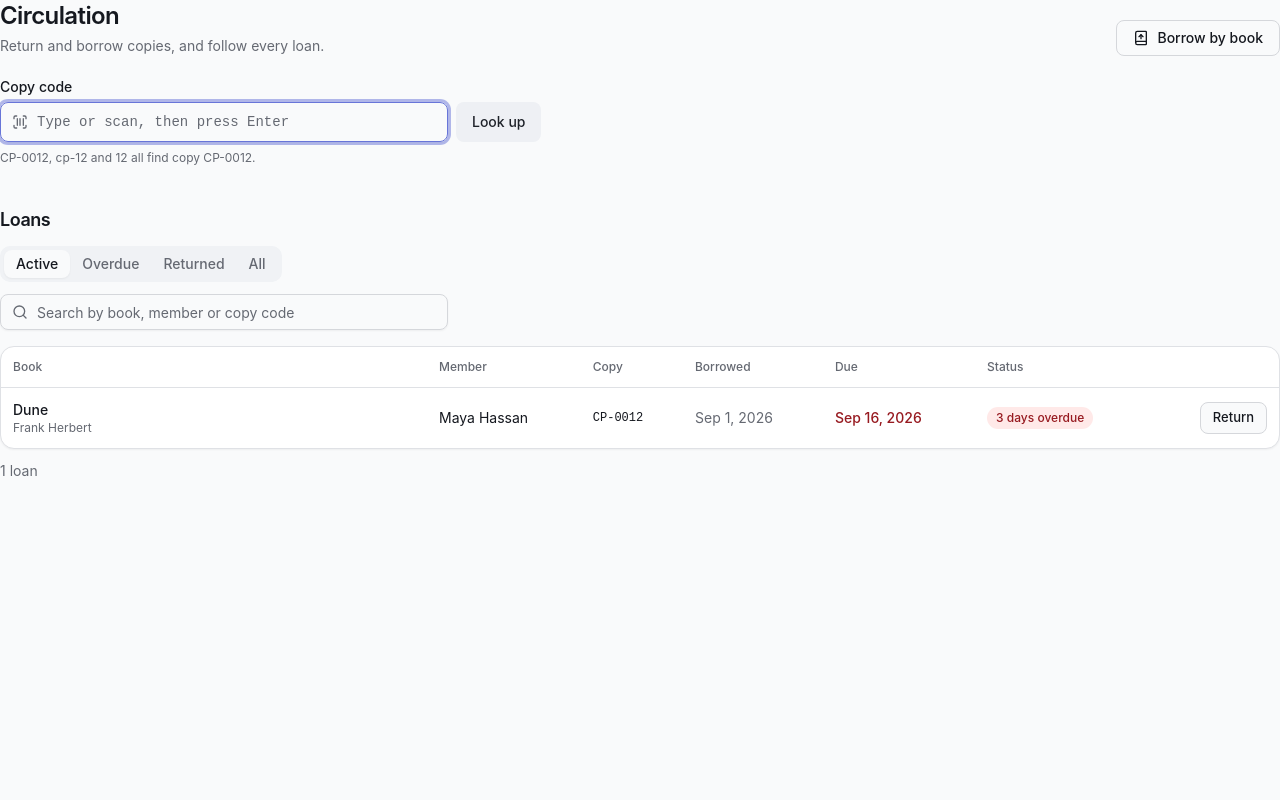
Test: CirculationPage: the loans list › returns a loan from its row and puts focus back in the copy-code box
Click the button with aria-label "Return CP-0012". click: (1233, 418)
box: [1200, 402, 1267, 434]
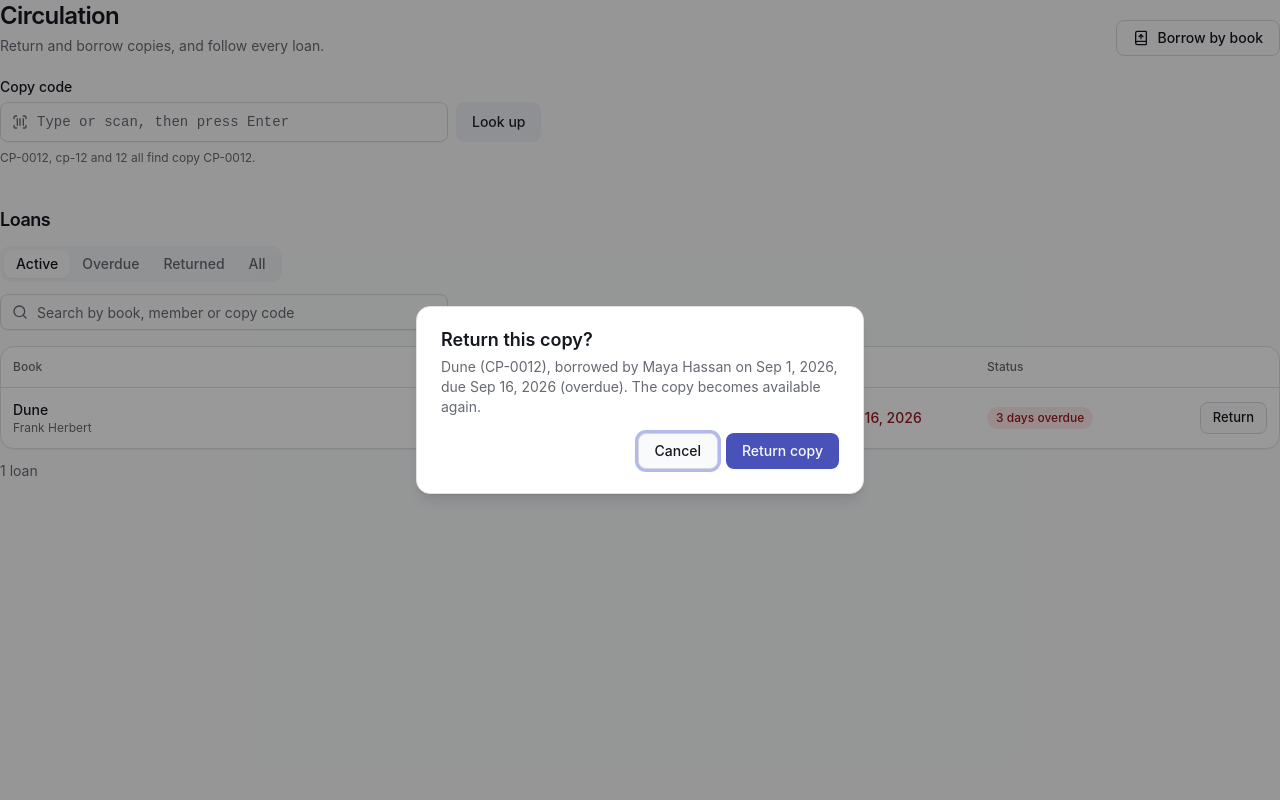
Click the button "Return copy". click: (782, 451)
box: [726, 433, 839, 469]
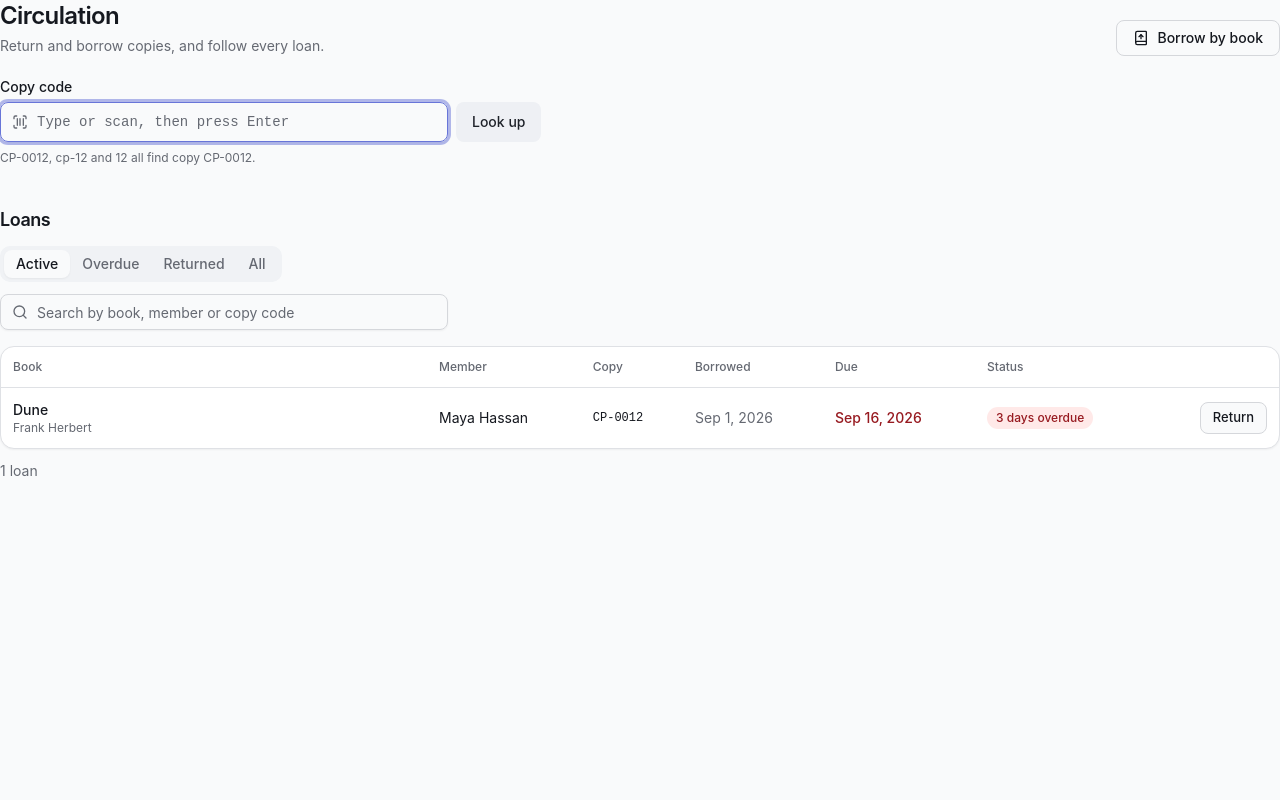
Expected: the dialog is gone
